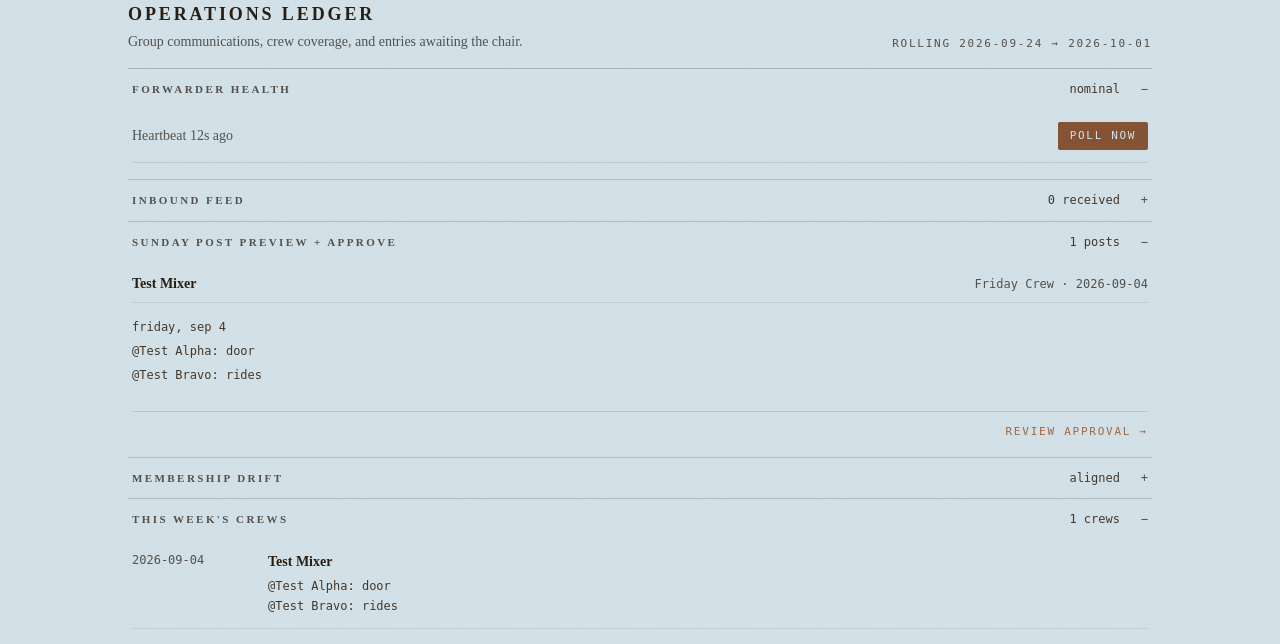
Test: Ops — approving an announcement › sends back the preview_id and digest it was given, for the window it previewed
Step 1. Click the button "Review approval →" → (1077, 432), box [1006,424,1148,440]
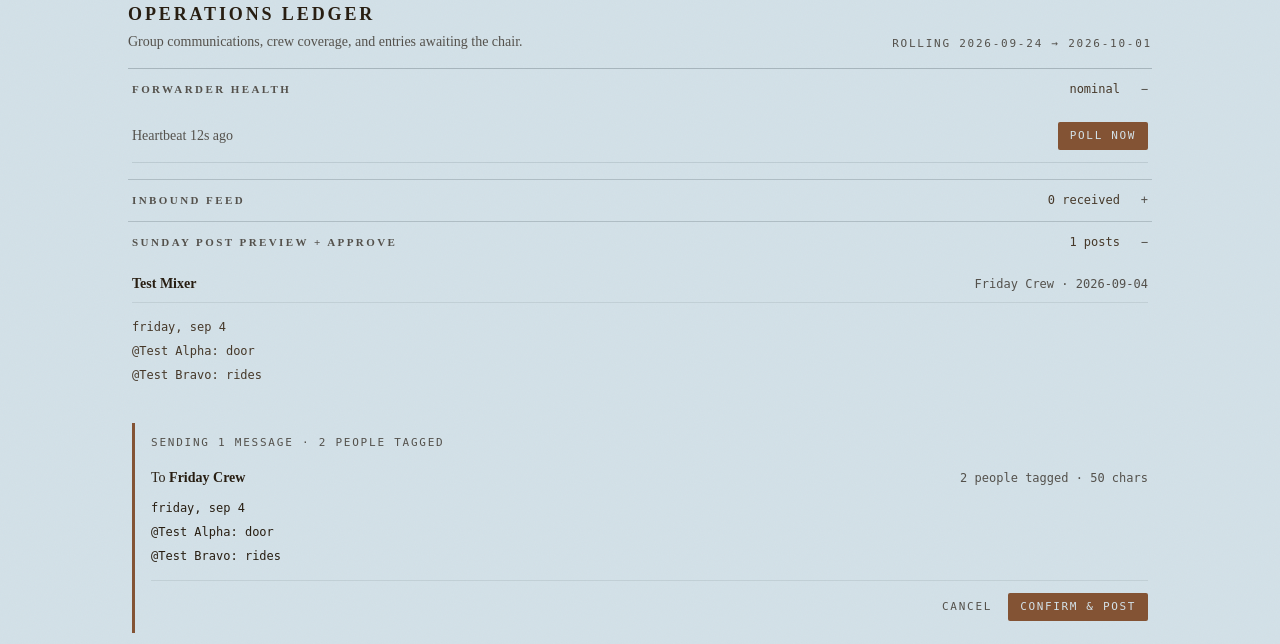
Step 2. Click the button "Confirm & post" → (1078, 607), box [1008,592,1148,621]
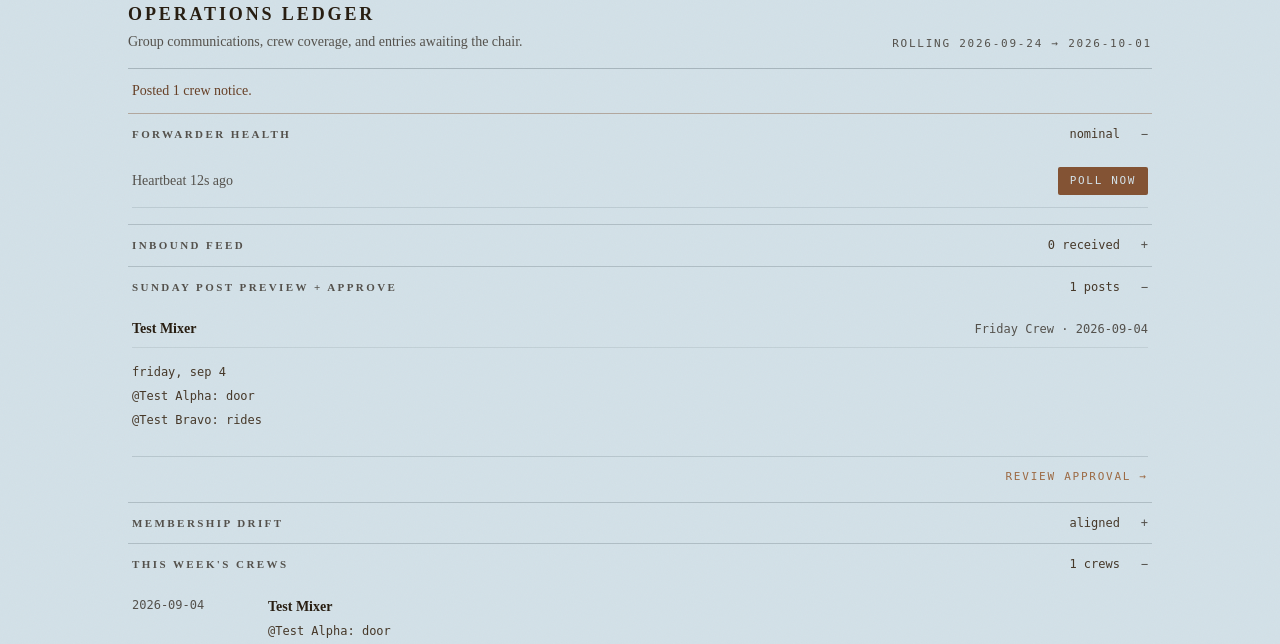
expect the text "Posted 1 crew notice." is shown: met, box [128,69,1152,114]
